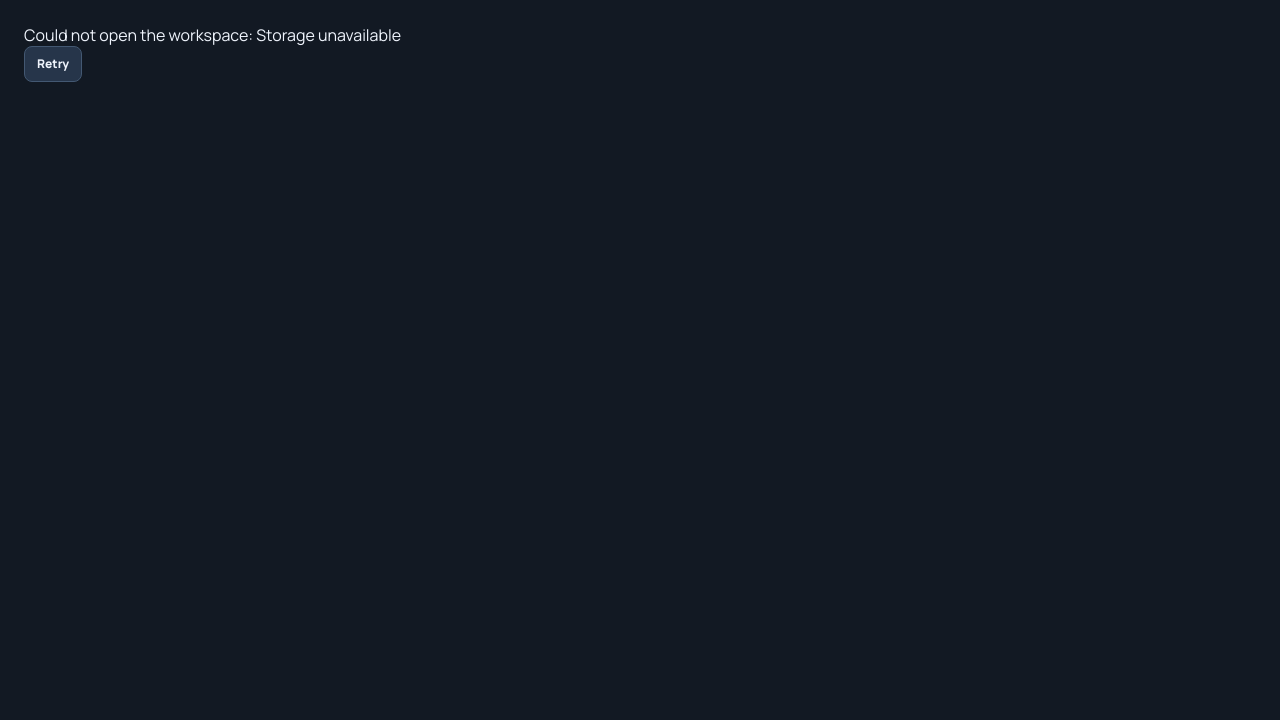
Test: preserves stored data on load failure and opens it when Retry succeeds
Expected: the message "Could not open the workspace: Storage unavailable" is shown, [24, 24, 401, 46]
Step 1. Click the button "Retry" → (53, 64), box [24, 46, 82, 82]
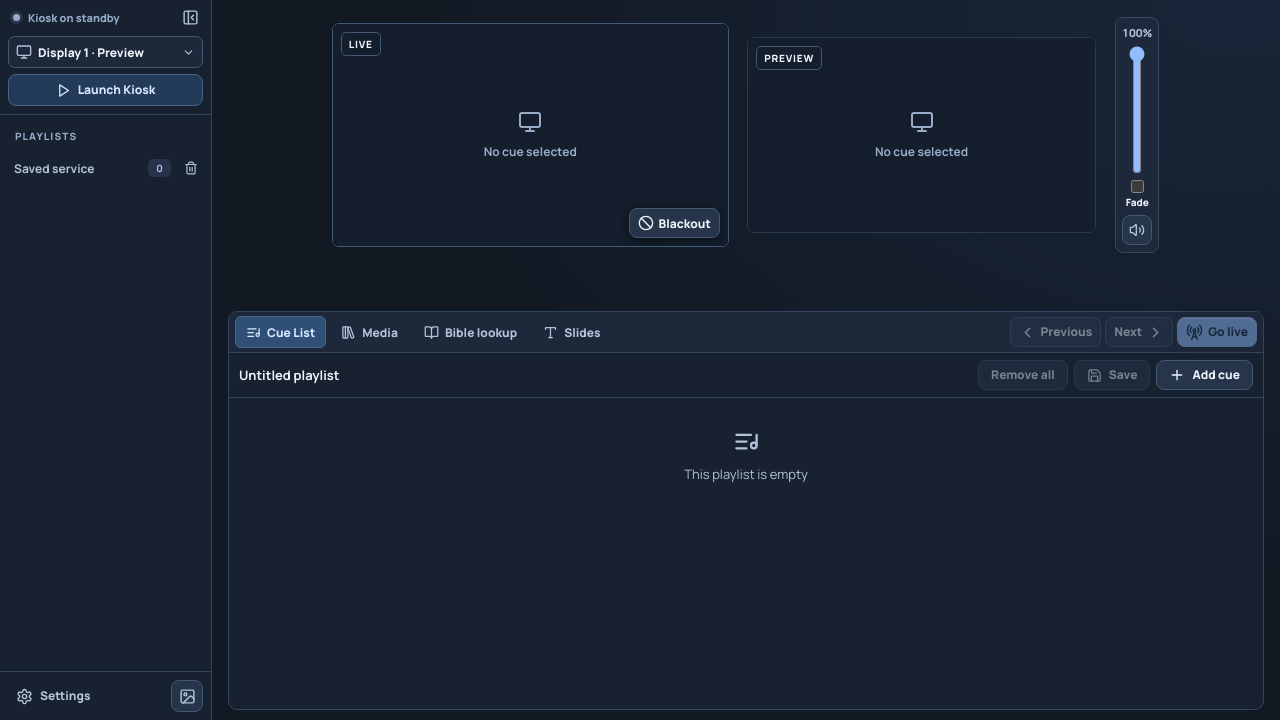
Expected: the button named "Remove playlist Saved service" is shown, [179, 154, 203, 182]
